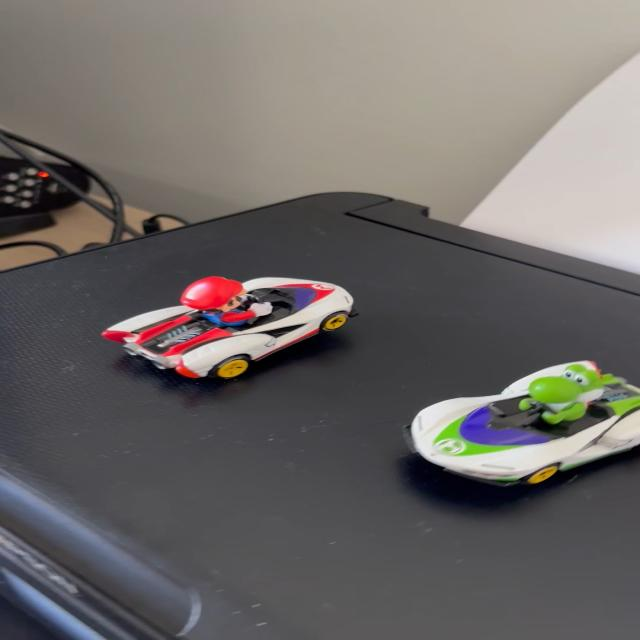mario: (87, 269, 379, 388)
yoshi: (396, 351, 640, 497)
